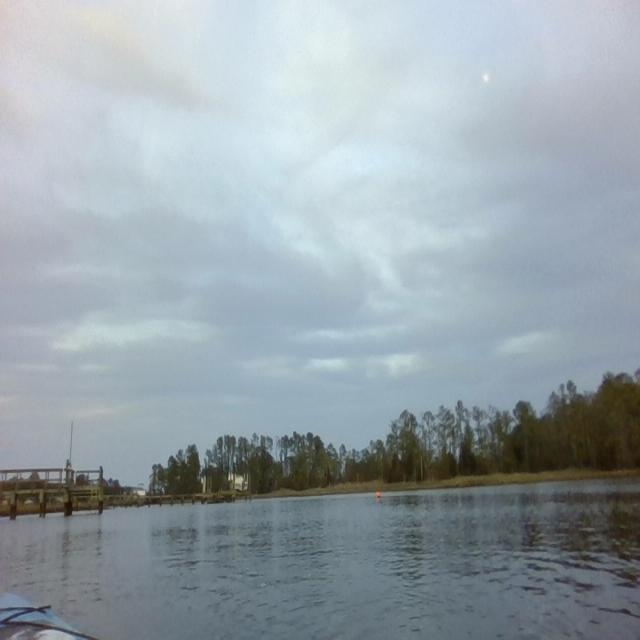Buoy: (375, 489, 382, 499)
